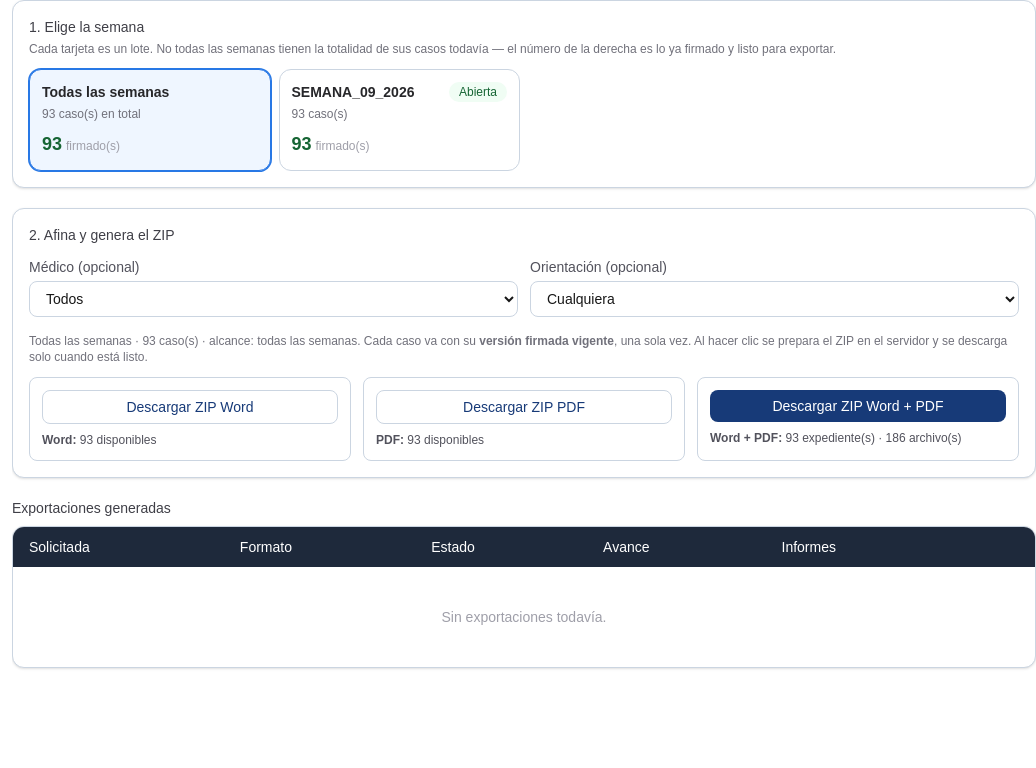
Test: Exportaciones · formato mixto, drift y reconstrucción › pedir el mixto manda format=both
This screenshot has width=1036, height=768.
Click the button "Descargar ZIP Word + PDF": [858, 406] box [710,390,1006,422]
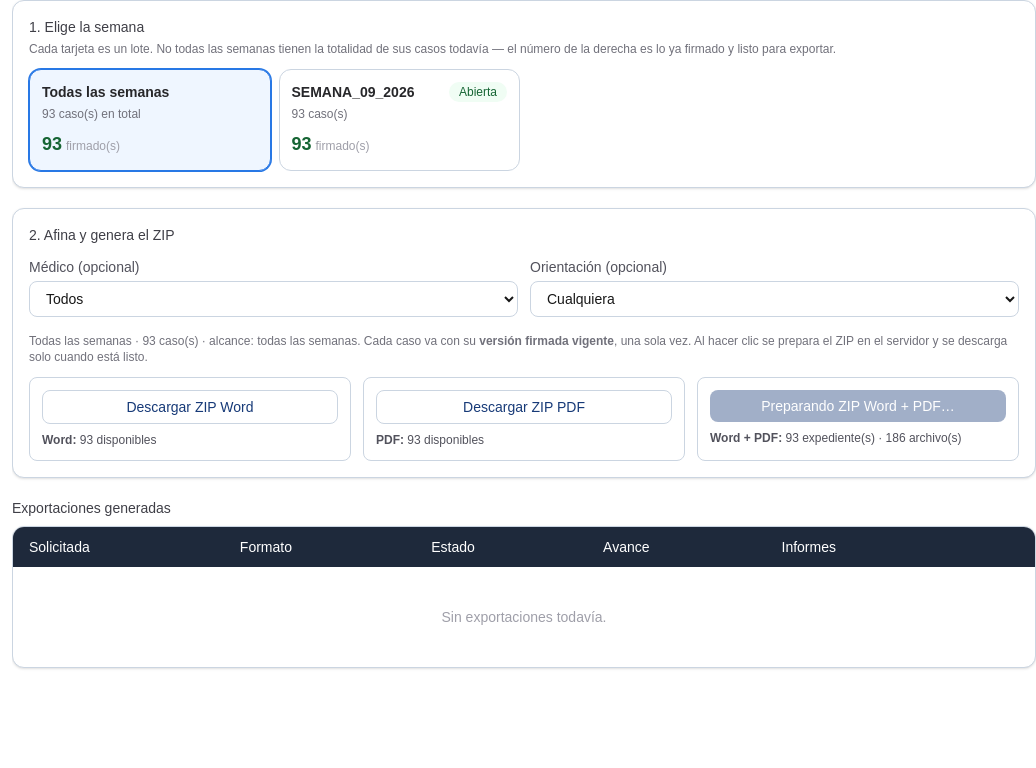
Now the button "Preparando ZIP Word + PDF…" is shown, box [710,390,1006,422]
